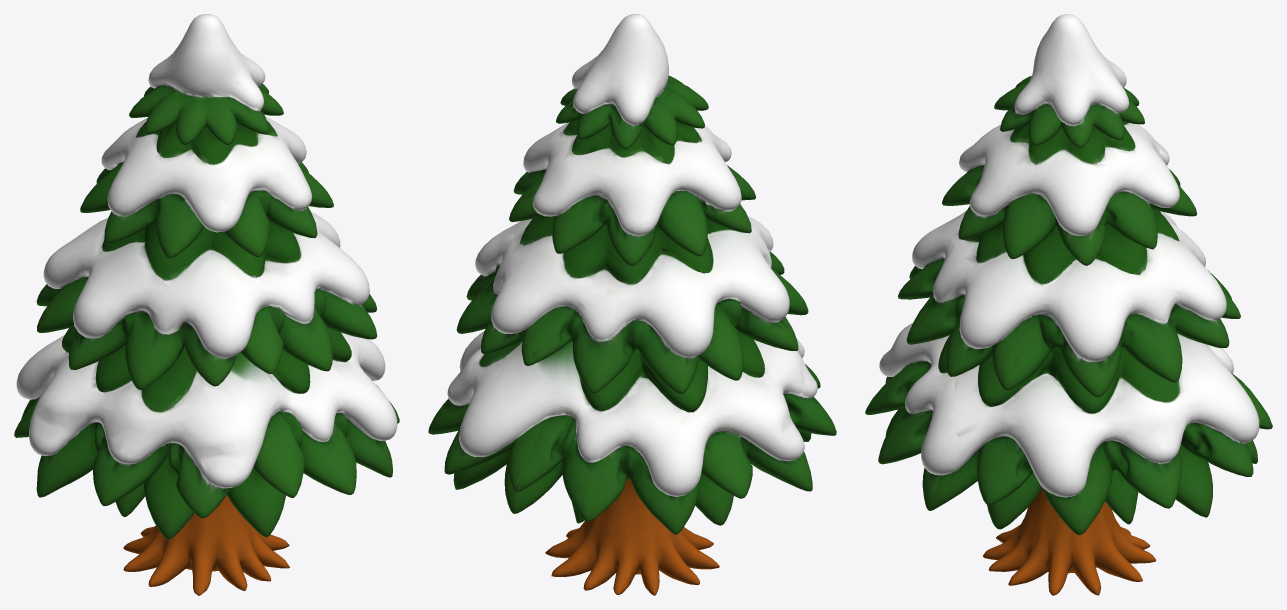
Rendered from pine_snow_b.glb.
The picture shows the model from 3 angles, left to right: view 1: azimuth 30°, elevation 25°; view 2: azimuth 150°, elevation 25°; view 3: azimuth 270°, elevation 25°; orthographic projection.
Parts seen in each view (by area): view 1: tripo_node_a990c8d3-c5a7-4278-8b49-a7e2785dc1c7; view 2: tripo_node_a990c8d3-c5a7-4278-8b49-a7e2785dc1c7; view 3: tripo_node_a990c8d3-c5a7-4278-8b49-a7e2785dc1c7.
Part boxes in pixels (box(x1,y1,x2,y2)): tripo_node_a990c8d3-c5a7-4278-8b49-a7e2785dc1c7: box(14, 14, 399, 595); tripo_node_a990c8d3-c5a7-4278-8b49-a7e2785dc1c7: box(428, 14, 836, 595); tripo_node_a990c8d3-c5a7-4278-8b49-a7e2785dc1c7: box(865, 14, 1272, 595).
Bounding box in the file's own units: 3.31 × 5 × 3.38.
1 material, 1 textured.
